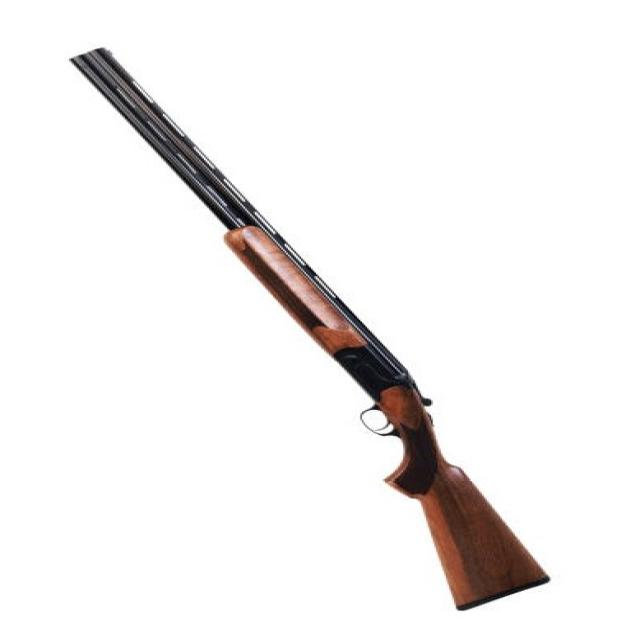rifle: (65, 42, 559, 620)
